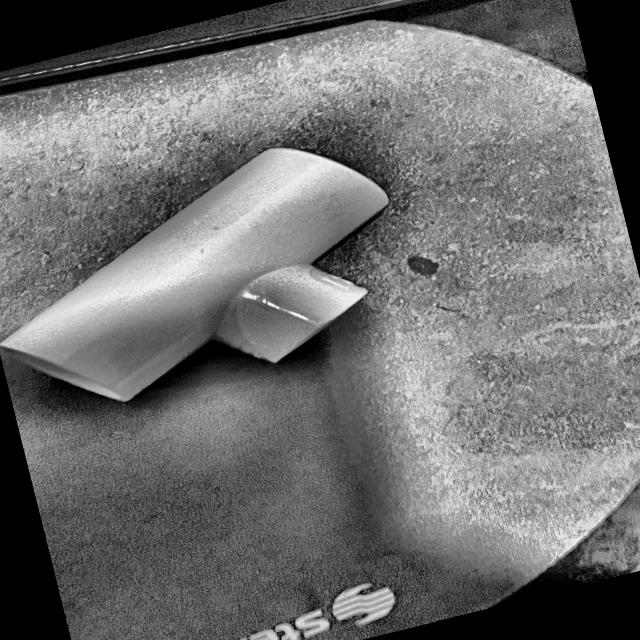EQUALTEE: (0, 147, 388, 403)
